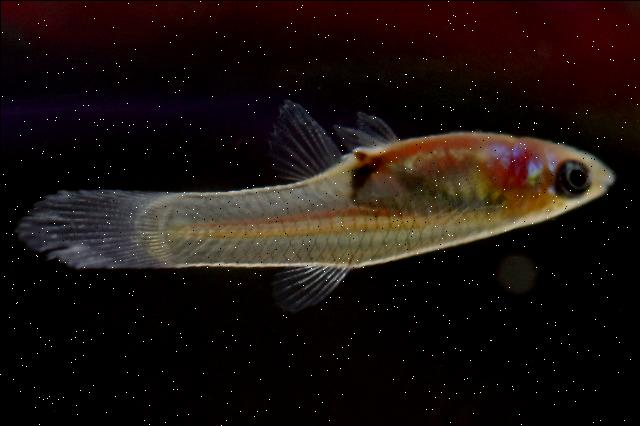Mulut: (570, 136, 630, 213)
Sirip Anal: (258, 93, 348, 188)
Sirip Dada: (398, 129, 516, 237)
Sirip Ekor: (5, 166, 207, 284)
Sirip Perut: (329, 97, 418, 165)
Sirip Punggung: (260, 254, 362, 319)
